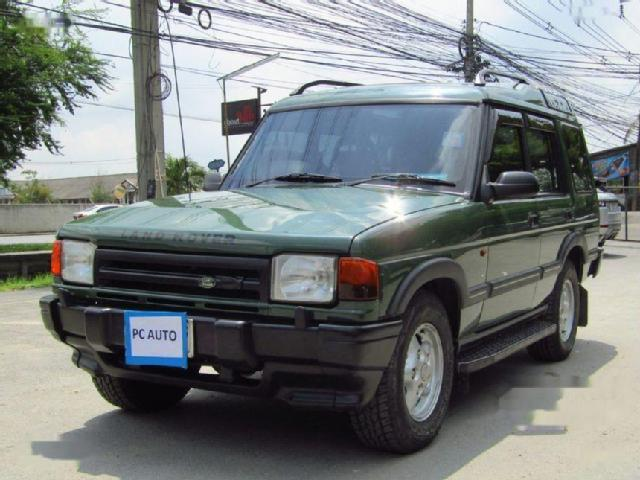pickup: (43, 78, 605, 455)
